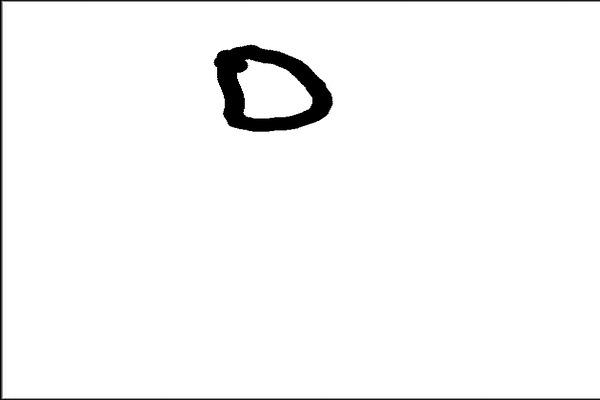D: (209, 36, 340, 134)
